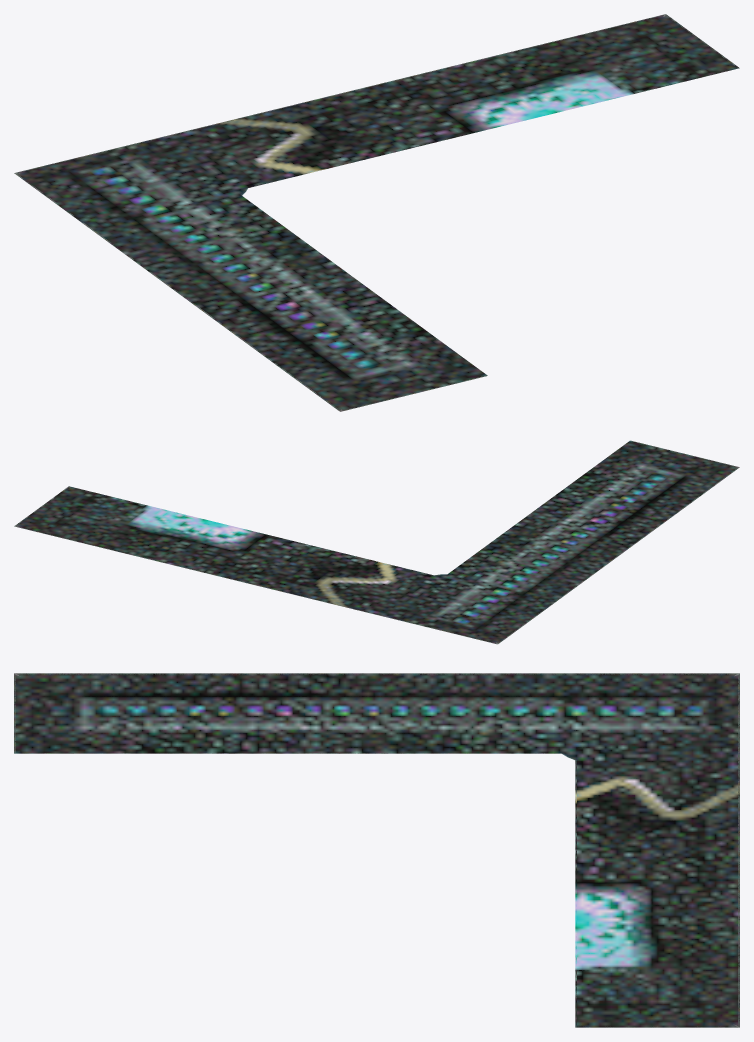
The model's file is menu.obj.
3 renders of one model, top to bottom at view 1: azimuth 30°, elevation 25°; view 2: azimuth 150°, elevation 25°; view 3: azimuth 270°, elevation 25°, orthographic. The views are drawn at different scales.
Parts seen in each view (by area): view 1: Plane; view 2: Plane; view 3: Plane.
Part boxes in pixels (bbox=[...]): Plane: bbox=[14, 14, 739, 411]; Plane: bbox=[14, 440, 739, 644]; Plane: bbox=[14, 673, 739, 1027].
Size of the model in its own units: 2.94 by 0 by 2.55.
